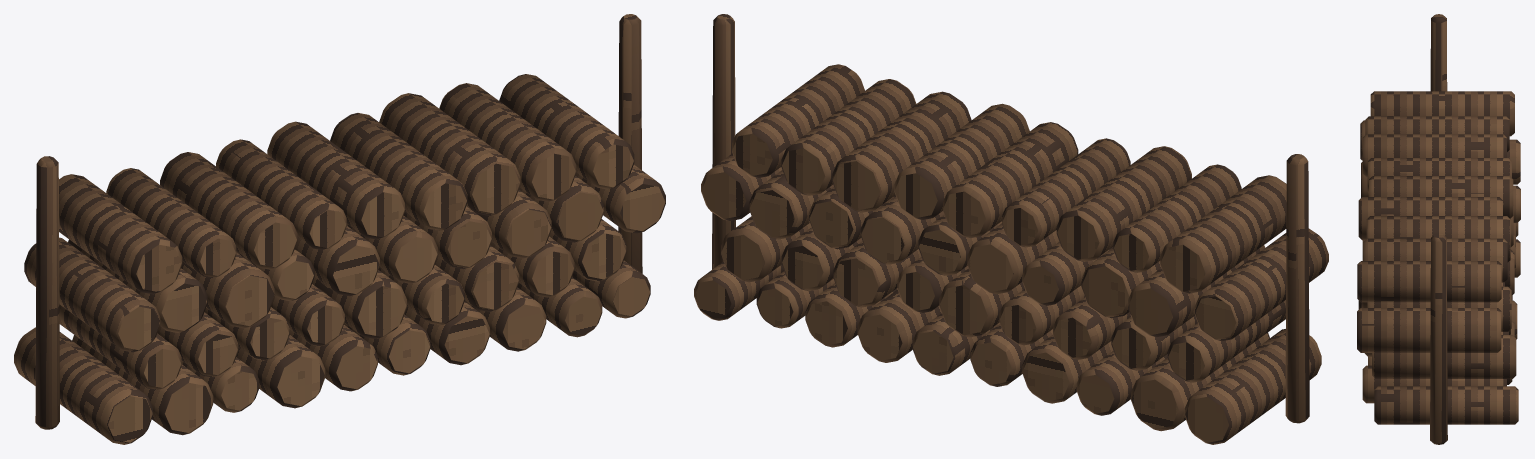
File: cn_firewood_stack_1.glb
3 views of the same model, side by side, from view 1: azimuth 30°, elevation 25°; view 2: azimuth 150°, elevation 25°; view 3: azimuth 270°, elevation 25° (orthographic). The views are drawn at different scales.
Parts seen in each view (by area): view 1: cn_firewood_stack_2; view 2: cn_firewood_stack_2; view 3: cn_firewood_stack_2.
Boxes of the visible parts, box(x1,y1,x2,y2) form: cn_firewood_stack_2: box(14, 14, 665, 444); cn_firewood_stack_2: box(694, 14, 1328, 444); cn_firewood_stack_2: box(1357, 14, 1520, 444).
Bounding box in the file's own units: 2.61 × 1.11 × 0.7942.
Materials: 2 (2 with a texture image).
